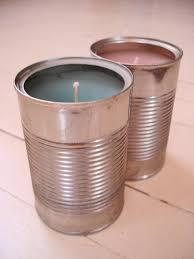Tin: (10, 12, 185, 237)
